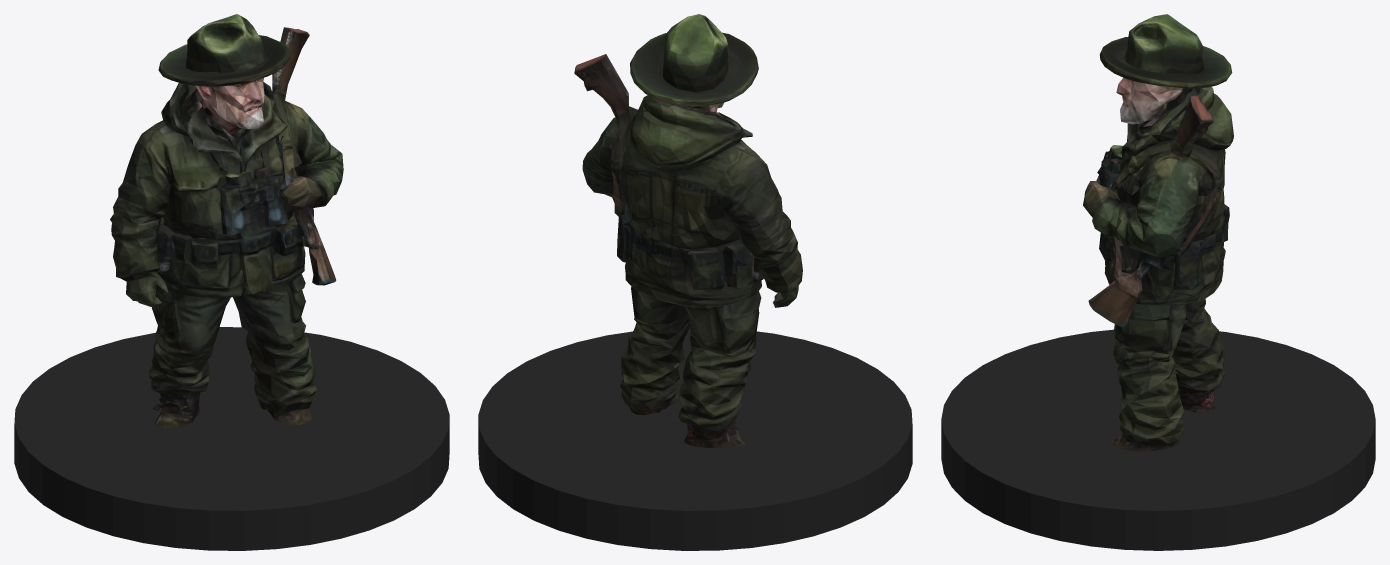
File: harman-brooks.glb
3 views of the same model, side by side, from view 1: azimuth 30°, elevation 25°; view 2: azimuth 150°, elevation 25°; view 3: azimuth 270°, elevation 25° (orthographic).
Parts seen in each view (by area): view 1: base, figure; view 2: base, figure; view 3: base, figure.
Boxes of the visible parts, x1,y1,x2,y2 form: base: (14, 327, 449, 550); figure: (110, 14, 343, 427); base: (478, 328, 912, 550); figure: (574, 14, 802, 448); base: (941, 329, 1375, 550); figure: (1083, 14, 1233, 451).
Size of the model in its own units: 1.18 by 1.32 by 1.18.
Materials: 2 (1 with a texture image).
